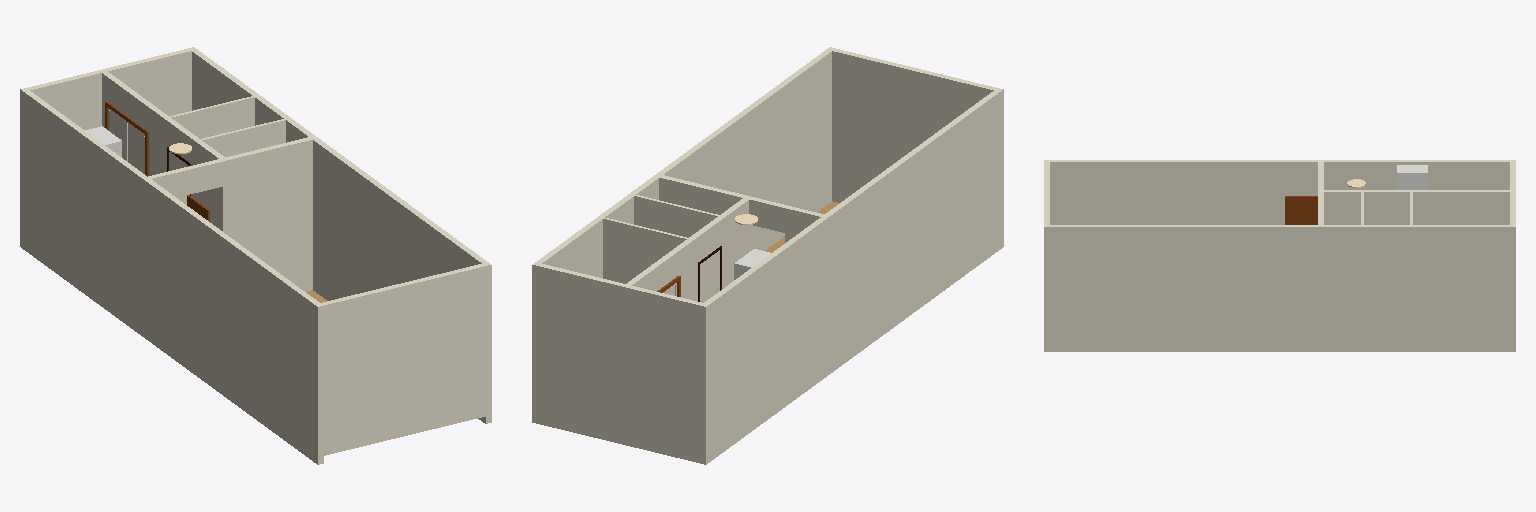
robot.urdf — room:
<?xml version="1.0"?>
<!-- generated by tools/gen_room.py from tools/params.py; fixed rigid body; units m -->
<robot name="room">
  <material name="wall"><color rgba="0.93 0.91 0.84 1"/></material>
  <material name="furniture"><color rgba="0.55 0.4 0.28 1"/></material>
  <material name="white"><color rgba="0.93 0.93 0.91 1"/></material>
  <material name="black"><color rgba="0.06 0.06 0.07 1"/></material>
  <material name="steel"><color rgba="0.65 0.66 0.68 1"/></material>
  <material name="frame_wood"><color rgba="0.6 0.34 0.14 1"/></material>
  <material name="dark_wood"><color rgba="0.25 0.11 0.05 1"/></material>
  <material name="door_wood"><color rgba="0.58 0.32 0.12 1"/></material>
  <material name="lattice"><color rgba="0.9 0.9 0.88 1"/></material>
  <material name="lamp"><color rgba="1 0.93 0.78 1"/></material>
  <material name="pan"><color rgba="0.92 0.93 0.94 1"/></material>
  <material name="floor_main"><color rgba="0.78 0.62 0.42 1"/></material>
  <material name="floor_corridor"><color rgba="0.7 0.72 0.76 1"/></material>
  <material name="floor_kitchen"><color rgba="0.85 0.8 0.6 1"/></material>
  <material name="floor_washer_bay"><color rgba="0.55 0.75 0.85 1"/></material>
  <material name="floor_genkan"><color rgba="0.45 0.42 0.4 1"/></material>
  <material name="floor_closet"><color rgba="0.8 0.7 0.8 1"/></material>
  <material name="floor_toilet"><color rgba="0.75 0.85 0.75 1"/></material>
  <material name="floor_bath"><color rgba="0.6 0.8 0.8 1"/></material>
  <link name="room">
    <inertial><origin xyz="0 0 0" rpy="0 0 0"/><mass value="1000"/><inertia ixx="1000" ixy="0" ixz="0" iyy="1000" iyz="0" izz="1000"/></inertial>
    <collision><origin xyz="1.35 4.2 -0.05" rpy="0 0 0"/><geometry><box size="2.9 8.6 0.1"/></geometry></collision>
    <visual><origin xyz="1.35 2.45 -0.01" rpy="0 0 0"/><geometry><box size="2.7 4.9 0.02"/></geometry><material name="floor_main"/></visual>
    <visual><origin xyz="1.35 4.95 -0.01" rpy="0 0 0"/><geometry><box size="2.7 0.1 0.02"/></geometry><material name="floor_main"/></visual>
    <visual><origin xyz="0.9 6.3 -0.01" rpy="0 0 0"/><geometry><box size="0.6 2.6 0.02"/></geometry><material name="floor_corridor"/></visual>
    <visual><origin xyz="0.9 8 -0.13" rpy="0 0 0"/><geometry><box size="0.6 0.8 0.02"/></geometry><material name="floor_genkan"/></visual>
    <visual><origin xyz="0.3 5.665 -0.01" rpy="0 0 0"/><geometry><box size="0.6 1.33 0.02"/></geometry><material name="floor_kitchen"/></visual>
    <visual><origin xyz="0.3 6.965 -0.01" rpy="0 0 0"/><geometry><box size="0.6 1.27 0.02"/></geometry><material name="floor_washer_bay"/></visual>
    <visual><origin xyz="0.3 8 -0.13" rpy="0 0 0"/><geometry><box size="0.6 0.8 0.02"/></geometry><material name="floor_genkan"/></visual>
    <visual><origin xyz="0.9 7.595 -0.06" rpy="0 0 0"/><geometry><box size="0.6 0.01 0.12"/></geometry><material name="furniture"/></visual>
    <visual><origin xyz="1.95 5.35 -0.01" rpy="0 0 0"/><geometry><box size="1.5 0.7 0.02"/></geometry><material name="floor_closet"/></visual>
    <visual><origin xyz="1.95 6.15 -0.01" rpy="0 0 0"/><geometry><box size="1.5 0.9 0.02"/></geometry><material name="floor_toilet"/></visual>
    <visual><origin xyz="1.95 7.5 -0.01" rpy="0 0 0"/><geometry><box size="1.5 1.8 0.02"/></geometry><material name="floor_bath"/></visual>
    <visual><origin xyz="-0.05 4.2 1.14" rpy="0 0 0"/><geometry><box size="0.1 8.6 2.52"/></geometry><material name="wall"/></visual>
    <collision><origin xyz="-0.05 4.2 1.14" rpy="0 0 0"/><geometry><box size="0.1 8.6 2.52"/></geometry></collision>
    <visual><origin xyz="2.75 4.2 1.14" rpy="0 0 0"/><geometry><box size="0.1 8.6 2.52"/></geometry><material name="wall"/></visual>
    <collision><origin xyz="2.75 4.2 1.14" rpy="0 0 0"/><geometry><box size="0.1 8.6 2.52"/></geometry></collision>
    <visual><origin xyz="1.35 -0.05 1.2" rpy="0 0 0"/><geometry><box size="2.9 0.1 2.4"/></geometry><material name="wall"/></visual>
    <collision><origin xyz="1.35 -0.05 1.2" rpy="0 0 0"/><geometry><box size="2.9 0.1 2.4"/></geometry></collision>
    <visual><origin xyz="1.35 8.45 1.14" rpy="0 0 0"/><geometry><box size="2.9 0.1 2.52"/></geometry><material name="wall"/></visual>
    <collision><origin xyz="1.35 8.45 1.14" rpy="0 0 0"/><geometry><box size="2.9 0.1 2.52"/></geometry></collision>
    <visual><origin xyz="0.3 4.95 1.2" rpy="0 0 0"/><geometry><box size="0.6 0.1 2.4"/></geometry><material name="wall"/></visual>
    <collision><origin xyz="0.3 4.95 1.2" rpy="0 0 0"/><geometry><box size="0.6 0.1 2.4"/></geometry></collision>
    <visual><origin xyz="1.95 4.95 1.2" rpy="0 0 0"/><geometry><box size="1.5 0.1 2.4"/></geometry><material name="wall"/></visual>
    <collision><origin xyz="1.95 4.95 1.2" rpy="0 0 0"/><geometry><box size="1.5 0.1 2.4"/></geometry></collision>
    <visual><origin xyz="1.25 6.7 1.14" rpy="0 0 0"/><geometry><box size="0.1 3.4 2.52"/></geometry><material name="wall"/></visual>
    <collision><origin xyz="1.25 6.7 1.14" rpy="0 0 0"/><geometry><box size="0.1 3.4 2.52"/></geometry></collision>
    <visual><origin xyz="2 5.7 1.2" rpy="0 0 0"/><geometry><box size="1.4 0.05 2.4"/></geometry><material name="wall"/></visual>
    <collision><origin xyz="2 5.7 1.2" rpy="0 0 0"/><geometry><box size="1.4 0.05 2.4"/></geometry></collision>
    <visual><origin xyz="2 6.6 1.2" rpy="0 0 0"/><geometry><box size="1.4 0.05 2.4"/></geometry><material name="wall"/></visual>
    <collision><origin xyz="2 6.6 1.2" rpy="0 0 0"/><geometry><box size="1.4 0.05 2.4"/></geometry></collision>
    <visual><origin xyz="0.9 4.95 2.2" rpy="0 0 0"/><geometry><box size="0.6 0.1 0.4"/></geometry><material name="wall"/></visual>
    <collision><origin xyz="0.9 4.95 2.2" rpy="0 0 0"/><geometry><box size="0.6 0.1 0.4"/></geometry></collision>
    <visual><origin xyz="0.6175 4.6 1" rpy="0 0 0"/><geometry><box size="0.035 0.6 2"/></geometry><material name="door_wood"/></visual>
    <collision><origin xyz="0.6175 4.6 1" rpy="0 0 0"/><geometry><box size="0.035 0.6 2"/></geometry></collision>
    <visual><origin xyz="1.185 7.07 0.975" rpy="0 0 0"/><geometry><box size="0.03 0.06 1.95"/></geometry><material name="frame_wood"/></visual>
    <visual><origin xyz="1.185 8.23 0.975" rpy="0 0 0"/><geometry><box size="0.03 0.06 1.95"/></geometry><material name="frame_wood"/></visual>
    <visual><origin xyz="1.185 7.65 1.98" rpy="0 0 0"/><geometry><box size="0.03 1.22 0.06"/></geometry><material name="frame_wood"/></visual>
    <visual><origin xyz="1.185 7.65 0.03" rpy="0 0 0"/><geometry><box size="0.03 1.1 0.06"/></geometry><material name="frame_wood"/></visual>
    <visual><origin xyz="1.188 7.14 0.975" rpy="0 0 0"/><geometry><box size="0.01 0.025 1.85"/></geometry><material name="lattice"/></visual>
    <visual><origin xyz="1.188 7.65 0.975" rpy="0 0 0"/><geometry><box size="0.01 0.025 1.85"/></geometry><material name="lattice"/></visual>
    <visual><origin xyz="1.188 8.16 0.975" rpy="0 0 0"/><geometry><box size="0.01 0.025 1.85"/></geometry><material name="lattice"/></visual>
    <visual><origin xyz="1.188 7.65 0.65" rpy="0 0 0"/><geometry><box size="0.01 1.04 0.025"/></geometry><material name="lattice"/></visual>
    <visual><origin xyz="1.188 7.65 1.25" rpy="0 0 0"/><geometry><box size="0.01 1.04 0.025"/></geometry><material name="lattice"/></visual>
    <visual><origin xyz="1.193 5.83 0.975" rpy="0 0 0"/><geometry><box size="0.014 0.04 1.95"/></geometry><material name="dark_wood"/></visual>
    <visual><origin xyz="1.193 6.47 0.975" rpy="0 0 0"/><geometry><box size="0.014 0.04 1.95"/></geometry><material name="dark_wood"/></visual>
    <visual><origin xyz="1.193 6.15 1.97" rpy="0 0 0"/><geometry><box size="0.014 0.68 0.04"/></geometry><material name="dark_wood"/></visual>
    <visual><origin xyz="1.188 5.91 0.95" rpy="0 0 0"/><geometry><box size="0.02 0.1 0.02"/></geometry><material name="steel"/></visual>
    <visual><origin xyz="0.3 5.665 0.41" rpy="0 0 0"/><geometry><box size="0.6 1.33 0.82"/></geometry><material name="white"/></visual>
    <collision><origin xyz="0.3 5.665 0.41" rpy="0 0 0"/><geometry><box size="0.6 1.33 0.82"/></geometry></collision>
    <visual><origin xyz="0.3 5.665 0.835" rpy="0 0 0"/><geometry><box size="0.6 1.33 0.03"/></geometry><material name="black"/></visual>
    <collision><origin xyz="0.3 5.665 0.835" rpy="0 0 0"/><geometry><box size="0.6 1.33 0.03"/></geometry></collision>
    <visual><origin xyz="0.3 6.03 0.854" rpy="0 0 0"/><geometry><box size="0.5 0.52 0.008"/></geometry><material name="steel"/></visual>
    <visual><origin xyz="0.3 5.9 0.86" rpy="0 0 0"/><geometry><cylinder radius="0.09" length="0.004"/></geometry><material name="black"/></visual>
    <visual><origin xyz="0.3 6.16 0.86" rpy="0 0 0"/><geometry><cylinder radius="0.09" length="0.004"/></geometry><material name="black"/></visual>
    <visual><origin xyz="0.3 5.35 0.852" rpy="0 0 0"/><geometry><box size="0.42 0.45 0.006"/></geometry><material name="steel"/></visual>
    <visual><origin xyz="0.3125 6.62 0.6" rpy="0 0 0"/><geometry><box size="0.625 0.58 1.2"/></geometry><material name="black"/></visual>
    <collision><origin xyz="0.3125 6.62 0.6" rpy="0 0 0"/><geometry><box size="0.625 0.58 1.2"/></geometry></collision>
    <visual><origin xyz="0.615 6.62 0.8" rpy="0 0 0"/><geometry><box size="0.012 0.006 0.7"/></geometry><material name="steel"/></visual>
    <visual><origin xyz="0.3 6.62 1.34" rpy="0 0 0"/><geometry><box size="0.45 0.42 0.28"/></geometry><material name="white"/></visual>
    <collision><origin xyz="0.3 6.62 1.34" rpy="0 0 0"/><geometry><box size="0.45 0.42 0.28"/></geometry></collision>
    <visual><origin xyz="0.175 6.62 2.05" rpy="0 0 0"/><geometry><box size="0.35 0.58 0.6"/></geometry><material name="white"/></visual>
    <collision><origin xyz="0.175 6.62 2.05" rpy="0 0 0"/><geometry><box size="0.35 0.58 0.6"/></geometry></collision>
    <visual><origin xyz="0.365 6.5615 1.83" rpy="0 1.5708 0"/><geometry><cylinder radius="0.018" length="0.03"/></geometry><material name="steel"/></visual>
    <visual><origin xyz="0.365 6.6785 1.83" rpy="0 1.5708 0"/><geometry><cylinder radius="0.018" length="0.03"/></geometry><material name="steel"/></visual>
    <visual><origin xyz="0.9 5.6 2.39" rpy="0 0 0"/><geometry><cylinder radius="0.17" length="0.02"/></geometry><material name="lamp"/></visual>
    <visual><origin xyz="0.32 7.265 0.025" rpy="0 0 0"/><geometry><box size="0.64 0.67 0.05"/></geometry><material name="pan"/></visual>
    <visual><origin xyz="0.04 7.465 1.1" rpy="0 1.5708 0"/><geometry><cylinder radius="0.012" length="0.08"/></geometry><material name="steel"/></visual>
    <visual><origin xyz="0.3 7.95 0.39" rpy="0 0 0"/><geometry><box size="0.6 0.9 1.02"/></geometry><material name="furniture"/></visual>
    <collision><origin xyz="0.3 7.95 0.39" rpy="0 0 0"/><geometry><box size="0.6 0.9 1.02"/></geometry></collision>
  </link>
</robot>

--- What the picture shows (computed from the rendered views, not written in the file) ---
3 views of the same robot in one strip: view 1: azimuth 30°, elevation 25°; view 2: azimuth 150°, elevation 25°; view 3: azimuth 270°, elevation 25° (orthographic).
Model room with 1 links and 0 joints (none), rooted at room, posed every joint at zero.
Visible links, largest first — view 1: room; view 2: room; view 3: room.
Boxes of the visible links, bbox=[...] form: room: bbox=[20, 47, 491, 464]; room: bbox=[532, 47, 1003, 464]; room: bbox=[1044, 160, 1515, 351].
Bounding box of the posed robot: 2.9 × 8.6 × 2.54 m (x, y, z).
Geometry: primitives only (box / cylinder / sphere), no mesh files.
